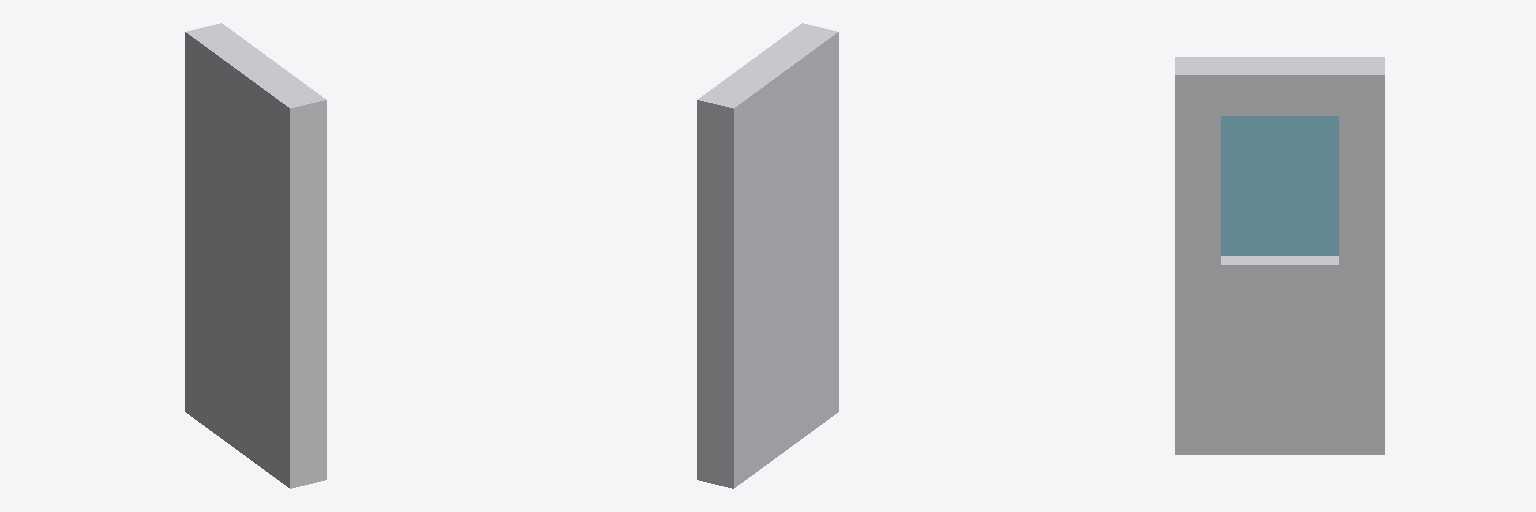
Rendered from detail_003.obj.
3 renders of one model, left to right at view 1: azimuth 30°, elevation 25°; view 2: azimuth 150°, elevation 25°; view 3: azimuth 270°, elevation 25°, orthographic.
Visible parts, largest first — view 1: detail_003; view 2: detail_003; view 3: detail_003.
Boxes of the visible parts, x1,y1,x2,y2 form: detail_003: [185, 23, 326, 488]; detail_003: [697, 23, 838, 488]; detail_003: [1175, 57, 1384, 454].
Bounding box in the file's own units: 0.05 × 0.5 × 0.25.